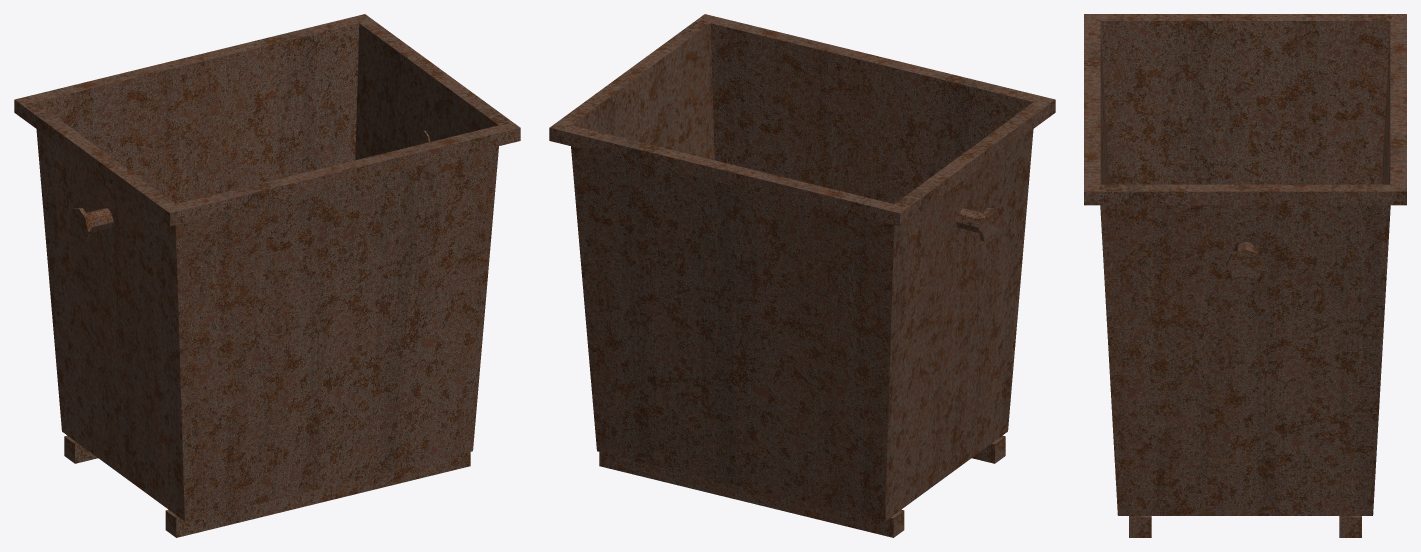
File: container075_rusty_lod1_web.glb
The picture shows the model from 3 angles, left to right: view 1: azimuth 30°, elevation 25°; view 2: azimuth 150°, elevation 25°; view 3: azimuth 270°, elevation 25°; orthographic projection. The views are drawn at different scales.
Visible parts, largest first — view 1: Container075_rusty_Mesh; view 2: Container075_rusty_Mesh; view 3: Container075_rusty_Mesh.
Boxes of the visible parts, x1,y1,x2,y2 form: Container075_rusty_Mesh: [14, 14, 520, 537]; Container075_rusty_Mesh: [549, 14, 1055, 537]; Container075_rusty_Mesh: [1084, 14, 1406, 537].
Bounding box in the file's own units: 1.2 × 1.06 × 0.86.
Materials: 1 (1 with a texture image).
